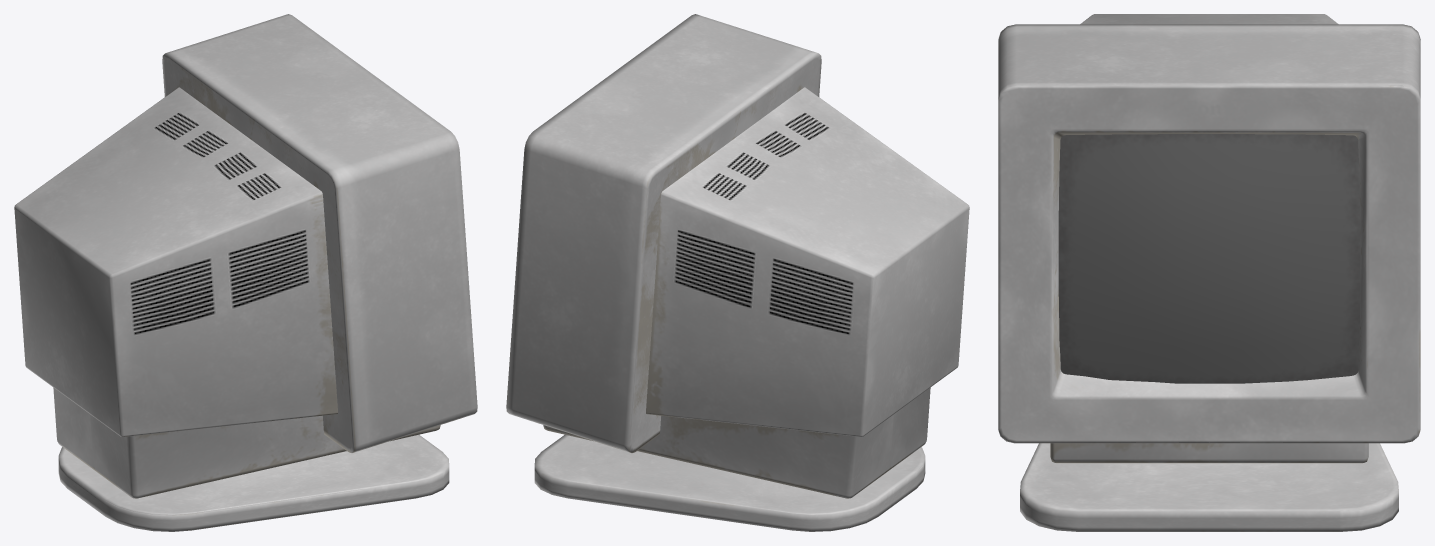
Rendered from crt_monitor.glb.
3 renders of one model, left to right at view 1: azimuth 30°, elevation 25°; view 2: azimuth 150°, elevation 25°; view 3: azimuth 270°, elevation 25°, orthographic. The views are drawn at different scales.
Parts seen in each view (by area): view 1: Cube; view 2: Cube; view 3: Cube.
Boxes of the visible parts, <box> form: Cube: <box>14,14,477,531</box>; Cube: <box>506,14,969,531</box>; Cube: <box>998,14,1420,531</box>.
Size of the model in its own units: 218 by 228 by 200.
1 material, 1 textured.
